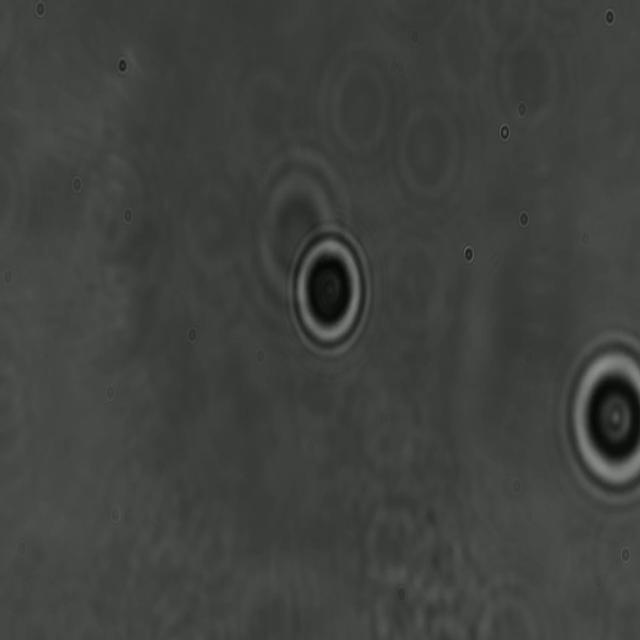DCELL: (283, 221, 376, 360)
